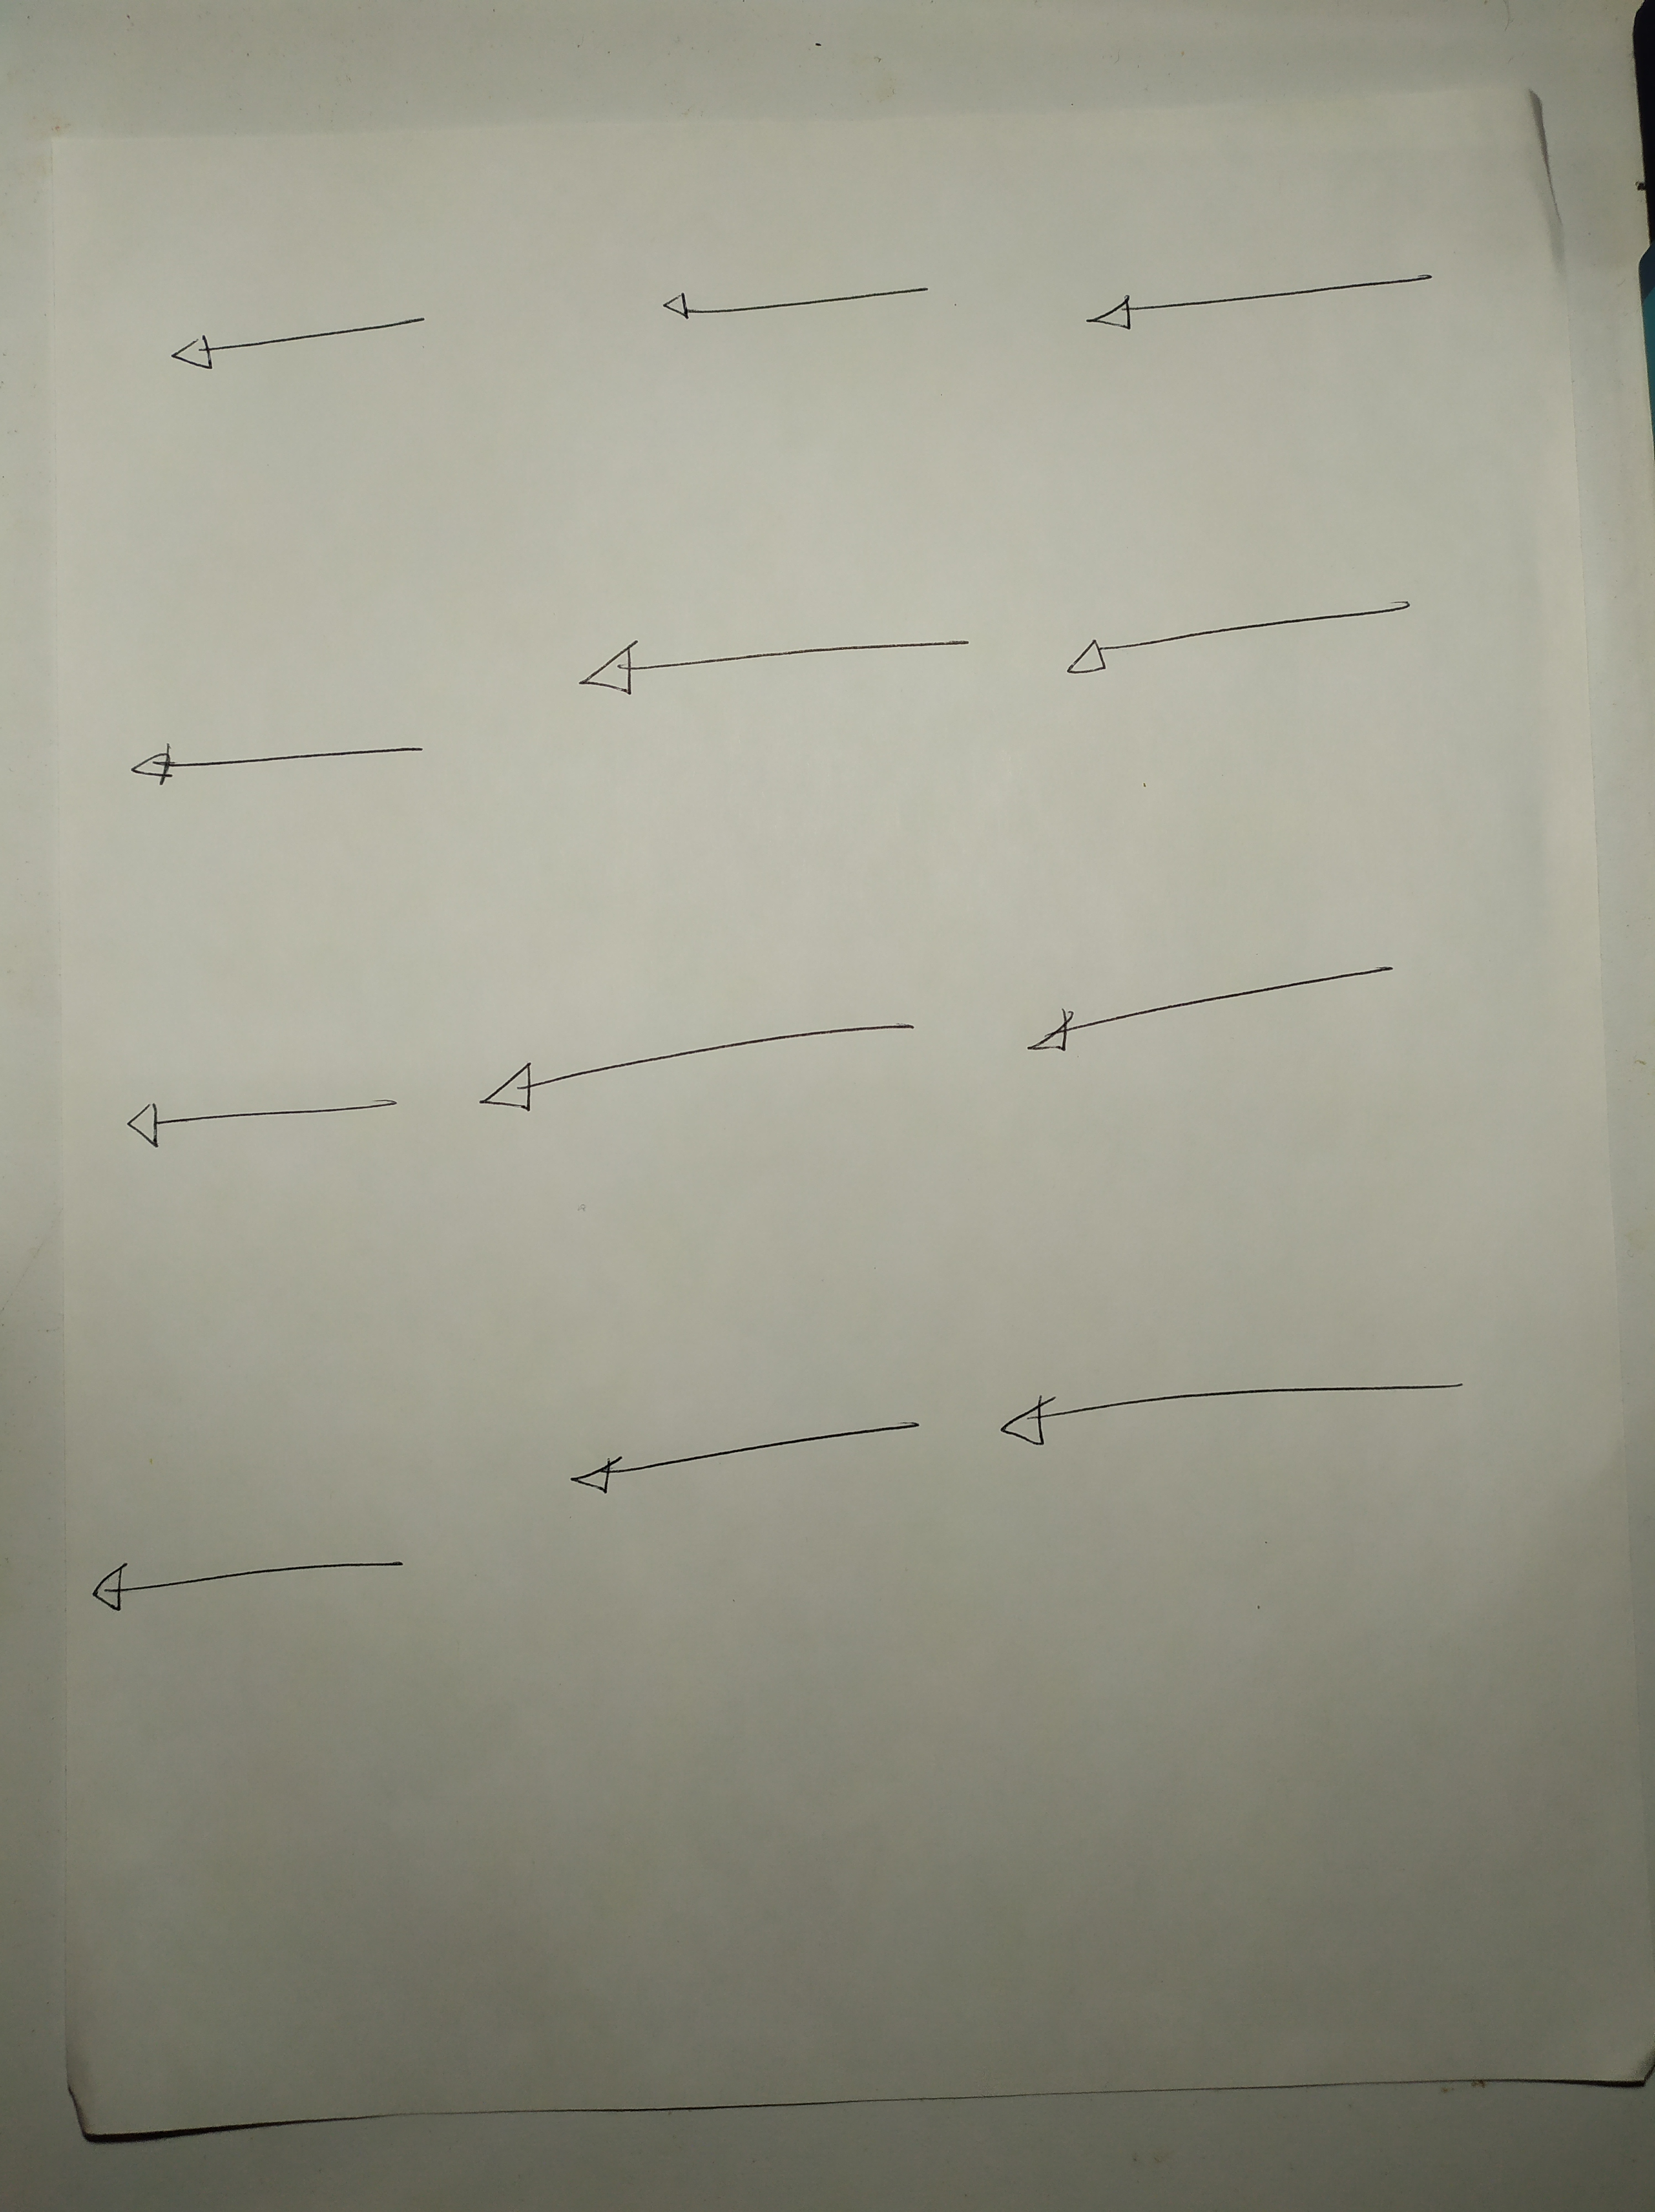arrow_line_left: (980, 1348, 1493, 1482), (542, 605, 984, 737), (1010, 945, 1419, 1076), (461, 1017, 932, 1126), (534, 1399, 940, 1515), (1053, 589, 1446, 707), (111, 699, 449, 813), (150, 285, 445, 398), (1062, 257, 1457, 339), (99, 1062, 424, 1159), (622, 269, 967, 354), (83, 1548, 443, 1626)
